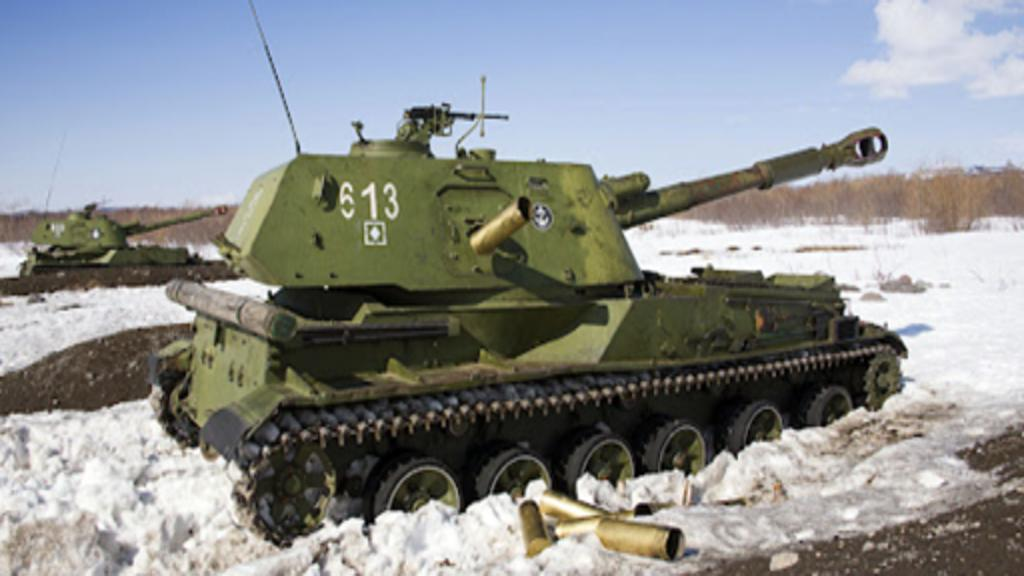ART: (148, 106, 914, 563), (18, 197, 228, 275)
